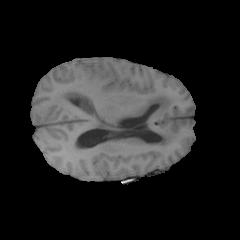glioma: (55, 84, 176, 147)
